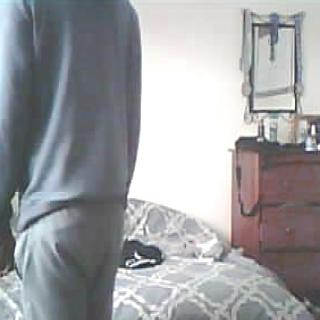Blue Hoodie: (0, 0, 145, 226)
Blue Sweatpants: (2, 205, 135, 320)
